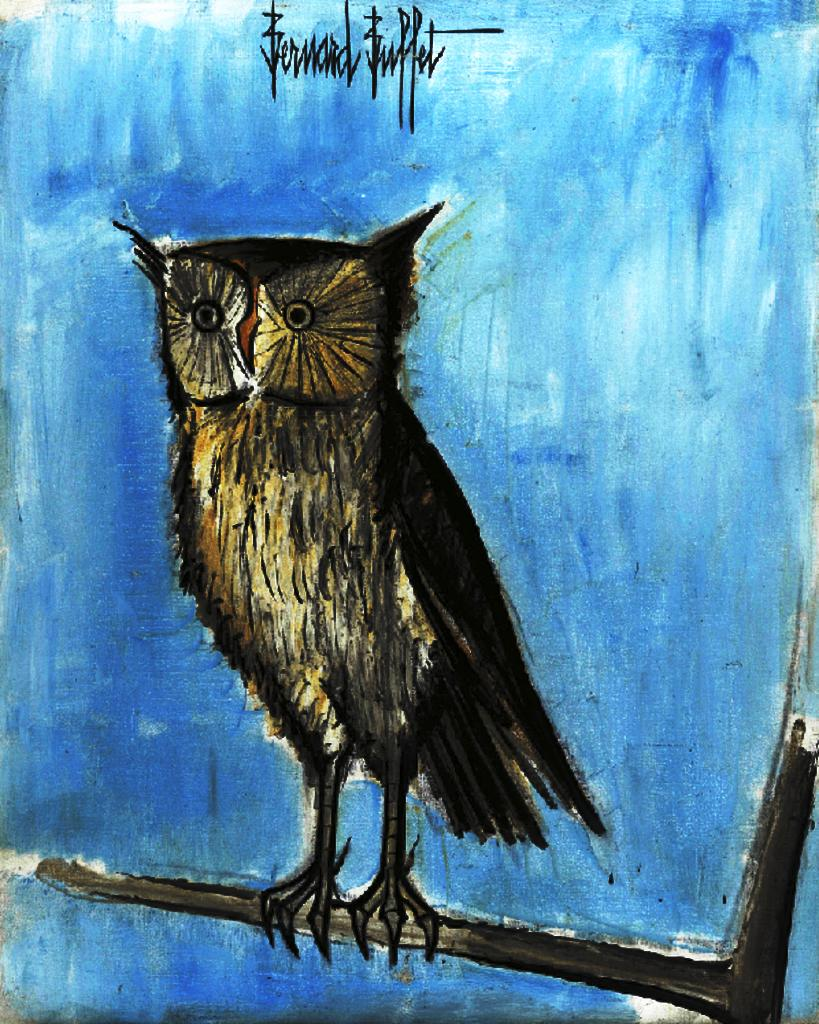Owl: (120, 202, 604, 966)
